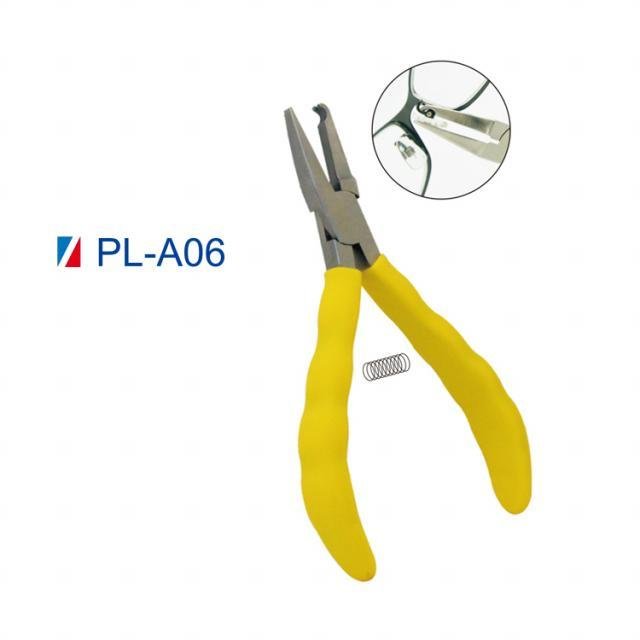pliers: (278, 97, 540, 586)
